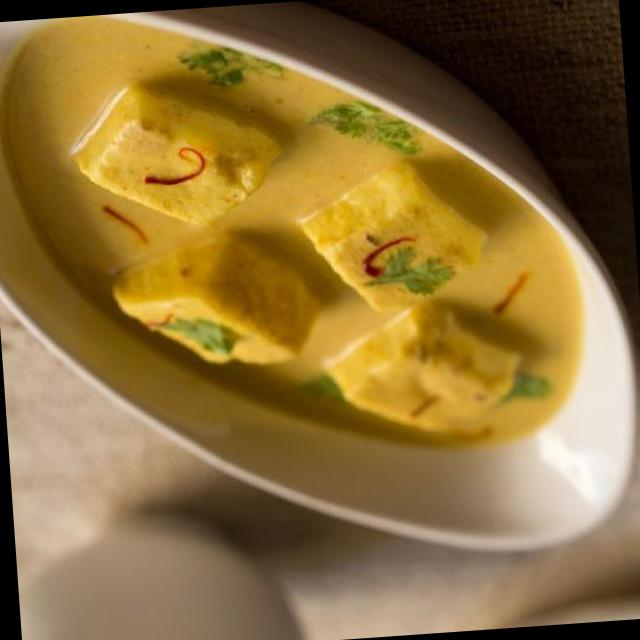ShahiPaneer: (0, 0, 585, 485)
